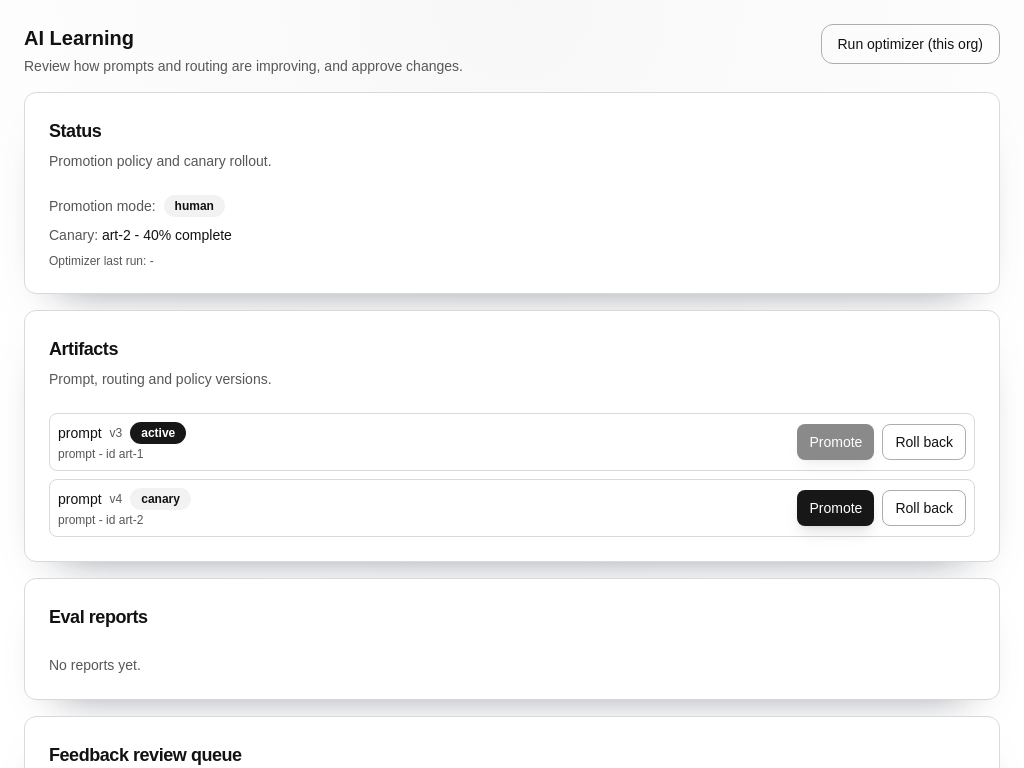
Test case: shows a clean message when the server refuses with GATE_NOT_PASSED
Click the 2nd button "Promote" at (836, 508), box [798,490,874,526]
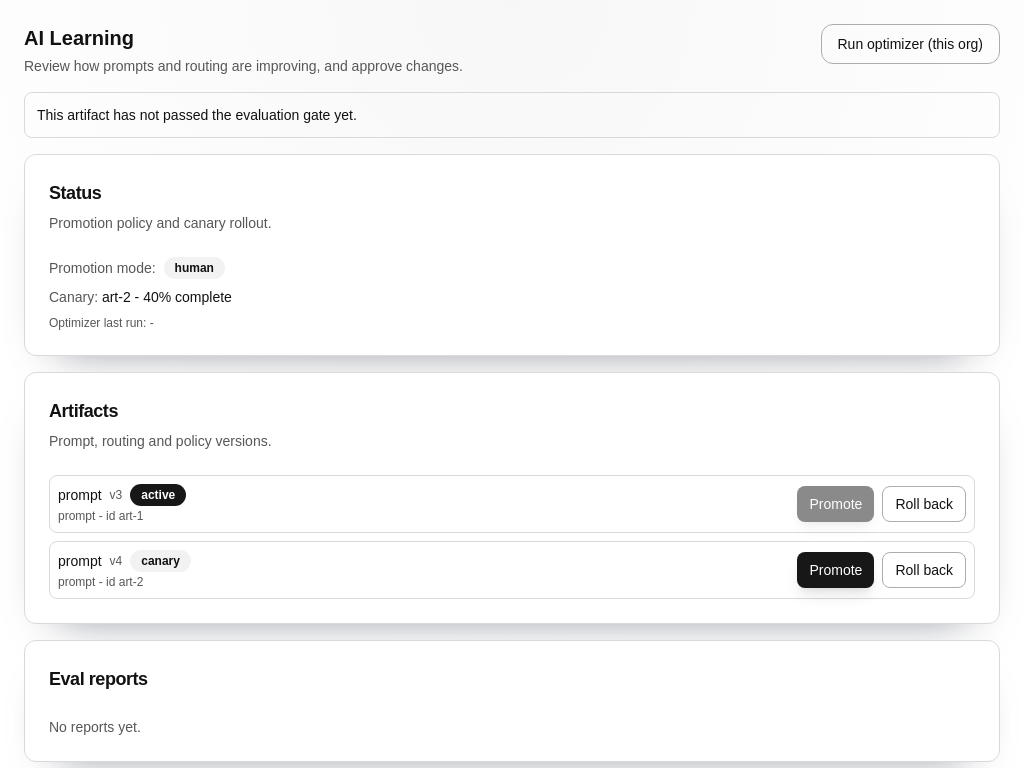
Now the message shows "evaluation gate", box [37,107,357,123]
